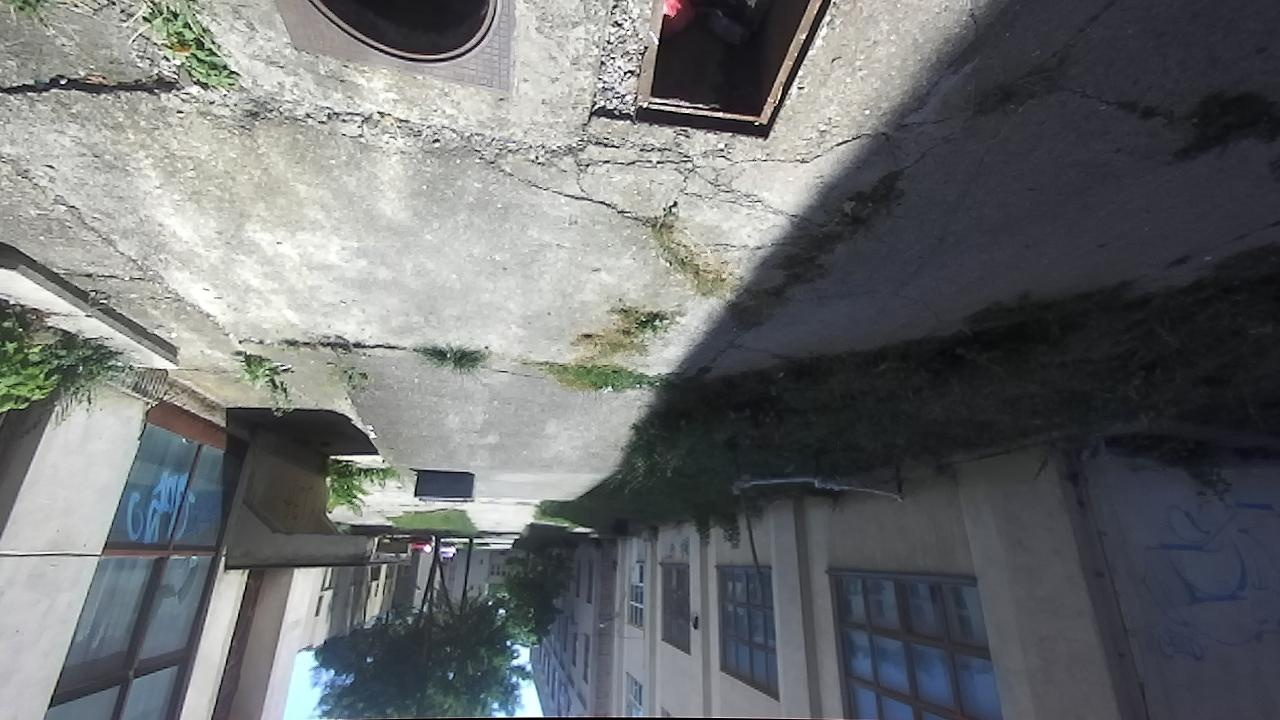drain: (628, 0, 841, 140), (307, 0, 508, 74)
